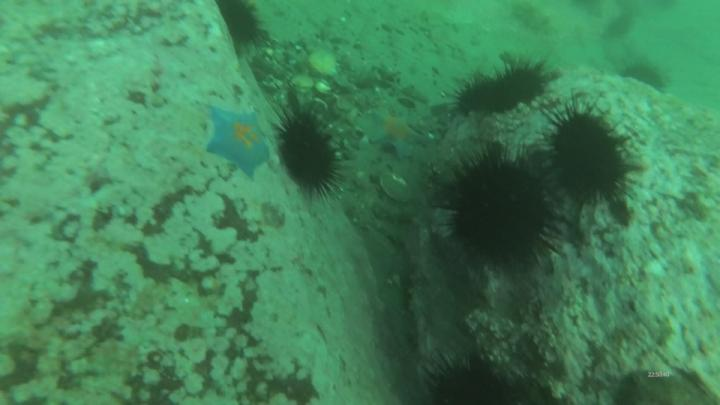echinus: (437, 142, 568, 276), (534, 96, 643, 211), (269, 102, 346, 205), (419, 350, 536, 405), (448, 71, 522, 116), (491, 52, 551, 107), (216, 1, 272, 56), (621, 57, 674, 94), (604, 11, 637, 40)
scallop: (378, 169, 417, 207)
starfish: (202, 104, 275, 181), (364, 105, 429, 163)
